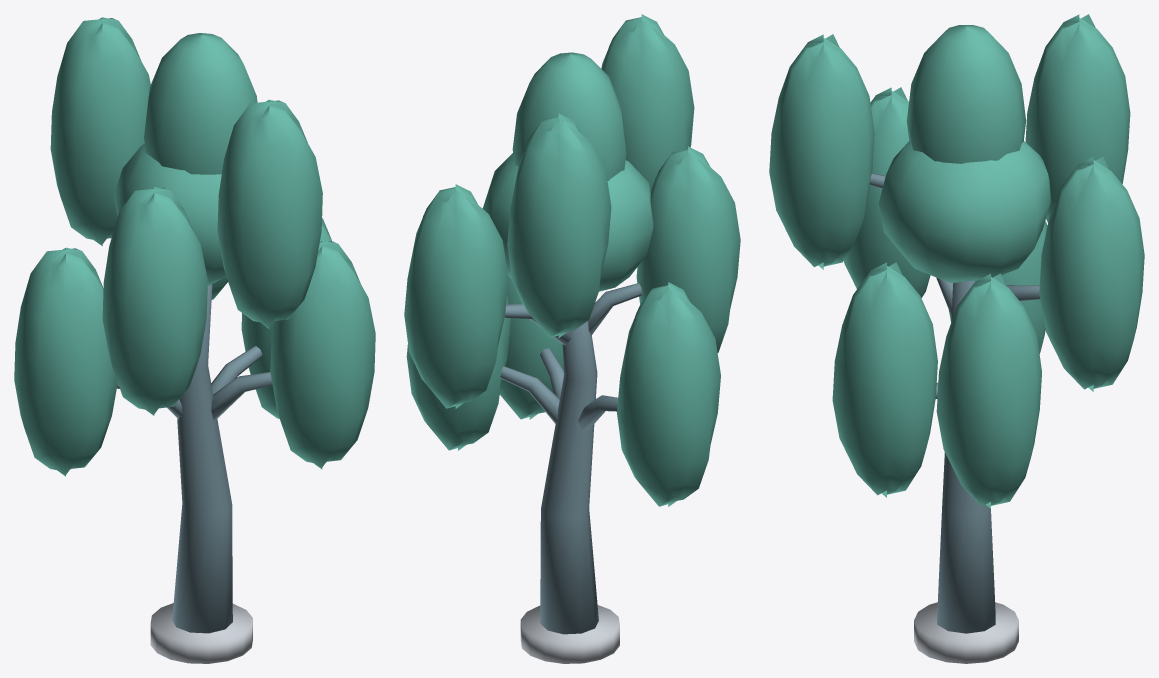
The model's file is can_cyan_cypress.glb.
The picture shows the model from 3 angles, left to right: view 1: azimuth 30°, elevation 25°; view 2: azimuth 150°, elevation 25°; view 3: azimuth 270°, elevation 25°; orthographic projection. The views are drawn at different scales.
Parts seen in each view (by area): view 1: CAN_cyan_cypress_cypress_leaf_5, CAN_cyan_cypress_cypress_leaf_4, CAN_cyan_cypress_cypress_leaf_3, CAN_cyan_cypress_cypress_leaf_6, CAN_cyan_cypress_cypress_leaf_2, CAN_cyan_cypress_trunk, CAN_cyan_cypress_top_crown, CAN_cyan_cypress_crown_center, CAN_cyan_cypress_root_collar, CAN_cyan_cypress_cypress_leaf_0, CAN_cyan_cypress_branch_6, CAN_cyan_cypress_branch_0; view 2: CAN_cyan_cypress_cypress_leaf_1, CAN_cyan_cypress_cypress_leaf_2, CAN_cyan_cypress_cypress_leaf_3, CAN_cyan_cypress_trunk, CAN_cyan_cypress_cypress_leaf_4, CAN_cyan_cypress_cypress_leaf_5, CAN_cyan_cypress_top_crown, CAN_cyan_cypress_crown_center, CAN_cyan_cypress_cypress_leaf_0, CAN_cyan_cypress_root_collar, CAN_cyan_cypress_cypress_leaf_6, CAN_cyan_cypress_branch_0 (+3 smaller); view 3: CAN_cyan_cypress_cypress_leaf_1, CAN_cyan_cypress_cypress_leaf_5, CAN_cyan_cypress_cypress_leaf_6, CAN_cyan_cypress_cypress_leaf_0, CAN_cyan_cypress_crown_center, CAN_cyan_cypress_top_crown, CAN_cyan_cypress_cypress_leaf_2, CAN_cyan_cypress_trunk, CAN_cyan_cypress_cypress_leaf_4, CAN_cyan_cypress_root_collar, CAN_cyan_cypress_cypress_leaf_3.
Part boxes in pixels (<box>): CAN_cyan_cypress_cypress_leaf_5: <box>217,99,322,328</box>; CAN_cyan_cypress_cypress_leaf_4: <box>102,187,207,415</box>; CAN_cyan_cypress_cypress_leaf_3: <box>14,247,117,476</box>; CAN_cyan_cypress_cypress_leaf_6: <box>270,240,375,469</box>; CAN_cyan_cypress_cypress_leaf_2: <box>50,17,150,246</box>; CAN_cyan_cypress_trunk: <box>172,284,232,633</box>; CAN_cyan_cypress_top_crown: <box>144,33,257,174</box>; CAN_cyan_cypress_crown_center: <box>113,144,226,285</box>; CAN_cyan_cypress_root_collar: <box>150,603,252,663</box>; CAN_cyan_cypress_cypress_leaf_0: <box>241,218,331,418</box>; CAN_cyan_cypress_branch_6: <box>211,372,272,419</box>; CAN_cyan_cypress_branch_0: <box>211,346,262,394</box>; CAN_cyan_cypress_cypress_leaf_1: <box>404,184,508,408</box>; CAN_cyan_cypress_cypress_leaf_2: <box>507,113,611,337</box>; CAN_cyan_cypress_cypress_leaf_3: <box>617,282,720,506</box>; CAN_cyan_cypress_trunk: <box>540,321,598,634</box>; CAN_cyan_cypress_cypress_leaf_4: <box>636,146,740,352</box>; CAN_cyan_cypress_cypress_leaf_5: <box>601,14,694,190</box>; CAN_cyan_cypress_top_crown: <box>512,52,626,180</box>; CAN_cyan_cypress_crown_center: <box>482,153,653,291</box>; CAN_cyan_cypress_cypress_leaf_0: <box>406,295,510,450</box>; CAN_cyan_cypress_root_collar: <box>520,605,619,663</box>; CAN_cyan_cypress_cypress_leaf_6: <box>499,276,563,419</box>; CAN_cyan_cypress_branch_0: <box>500,366,559,423</box>; CAN_cyan_cypress_cypress_leaf_1: <box>1039,156,1144,391</box>; CAN_cyan_cypress_cypress_leaf_5: <box>769,34,874,269</box>; CAN_cyan_cypress_cypress_leaf_6: <box>832,262,937,497</box>; CAN_cyan_cypress_cypress_leaf_0: <box>936,273,1041,508</box>; CAN_cyan_cypress_crown_center: <box>878,141,1050,283</box>; CAN_cyan_cypress_top_crown: <box>906,25,1025,163</box>; CAN_cyan_cypress_cypress_leaf_2: <box>1025,14,1130,222</box>; CAN_cyan_cypress_trunk: <box>937,281,995,633</box>; CAN_cyan_cypress_cypress_leaf_4: <box>844,87,930,297</box>; CAN_cyan_cypress_root_collar: <box>914,602,1018,663</box>; CAN_cyan_cypress_cypress_leaf_3: <box>949,221,1047,353</box>.
Bounding box in the file's own units: 2.31 × 4.28 × 2.37.
